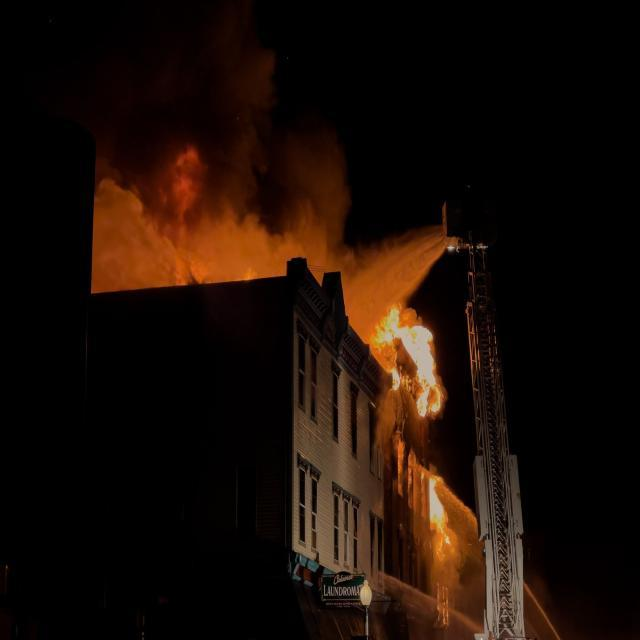Fire: (372, 304, 448, 426), (173, 147, 210, 286), (430, 477, 460, 567), (398, 446, 413, 490), (234, 266, 259, 282)
Smoke: (88, 167, 175, 292), (190, 212, 328, 285), (298, 144, 353, 275)
